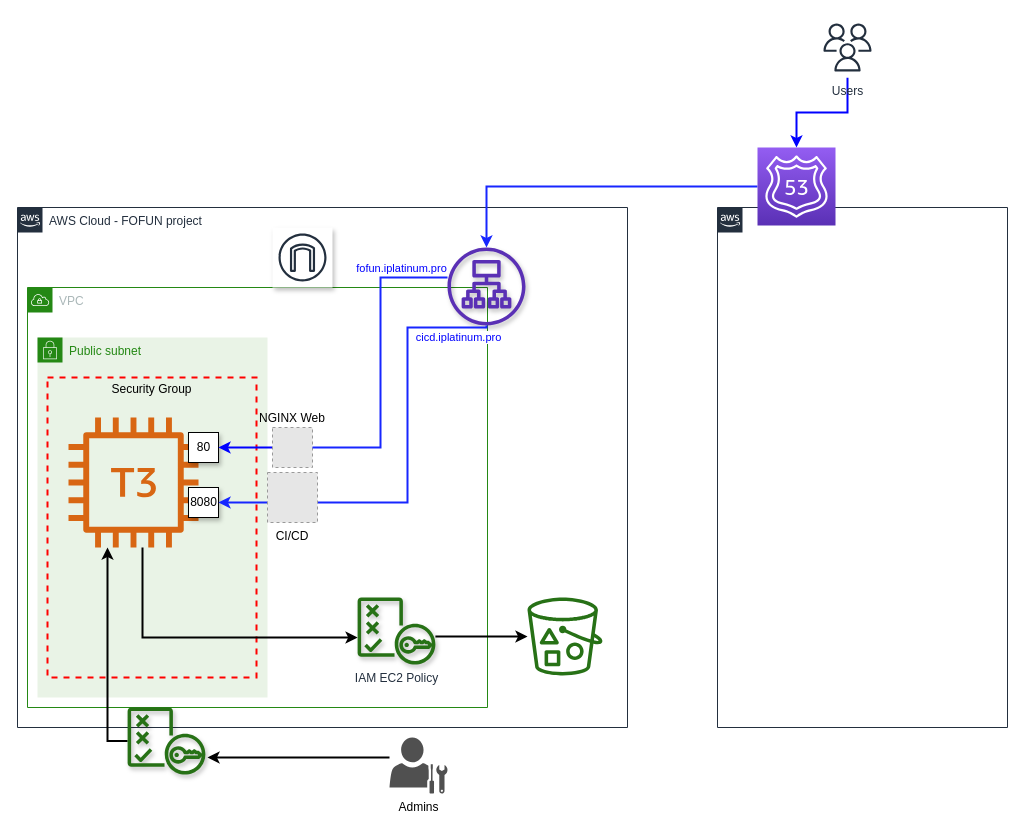
Image size: 1025x832. Some labels were removed from this diagram. Grey dashed boxes stand in for pictures. Each missing label, with the centre of its shape:
"ALB" goes at (x=487, y=287).
"AWS iPlatinum Cloud" goes at (x=862, y=467).
"cicd.iplatinum.pro fofun.iplatinum.pro" goes at (x=796, y=186).
"IAM SSM Policy" goes at (x=167, y=742).
"Internet gateway" goes at (x=303, y=258).
